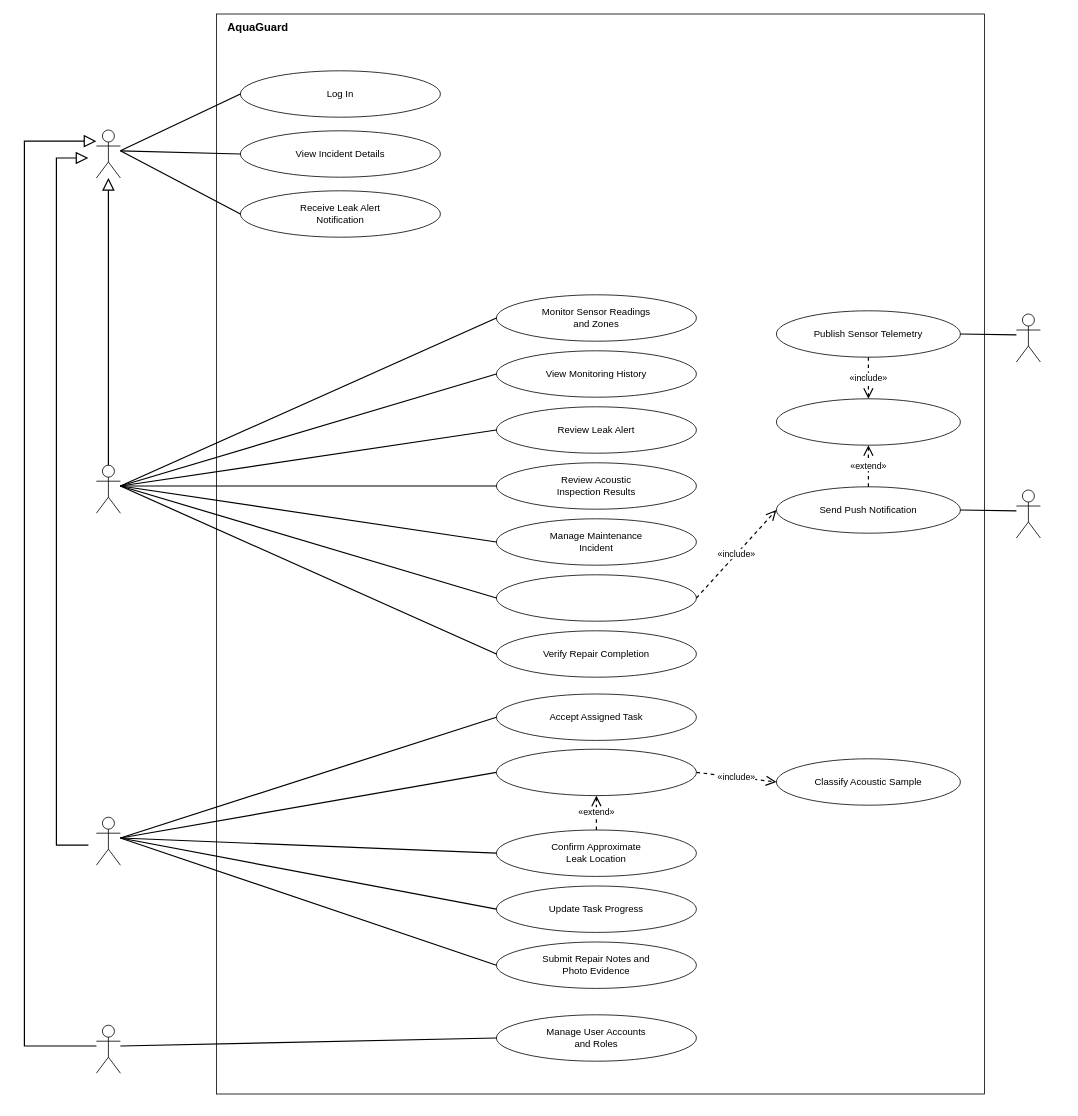
Some shapes in this 1078 by 1116 pixel diagram are drawn without their labels. The shapes that lost their labels are listed below. From the top down, each one's box as (x1, y1, x2, y2) in pixels, then its label:
(96, 129, 120, 178): Authenticated User (abstract)
(1016, 313, 1040, 362): ESP32 Sensor Node
(776, 398, 960, 445): Detect Possible Leak Condition
(96, 464, 120, 513): Engineer / Supervisor
(1016, 489, 1040, 538): Firebase Cloud Messaging
(496, 574, 696, 621): Assign Inspection or Repair Task
(496, 748, 696, 796): Conduct Acoustic Inspection
(96, 816, 120, 865): Field Maintenance Worker
(96, 1024, 120, 1073): System Administrator
